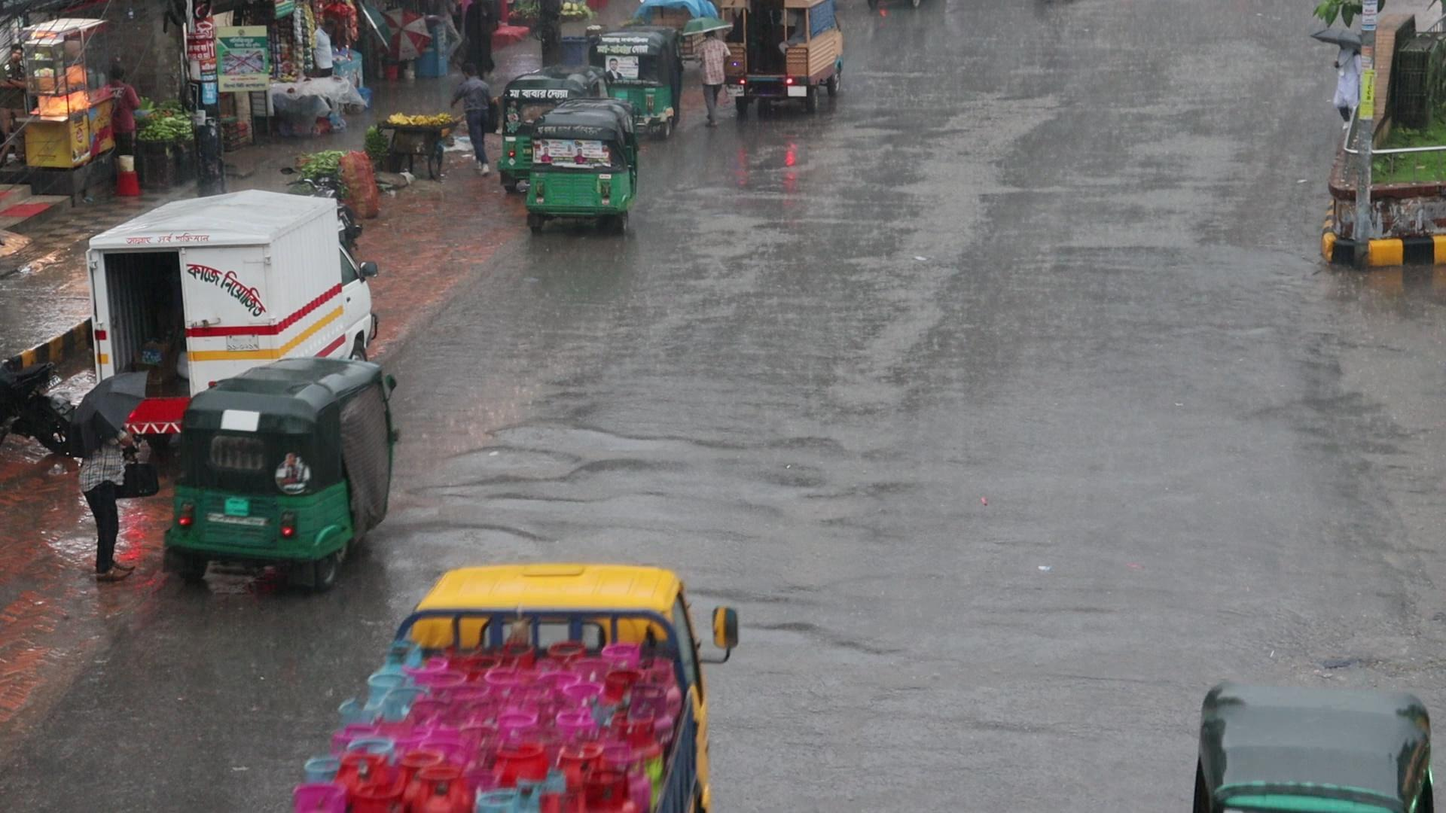Truck: (304, 559, 705, 813)
